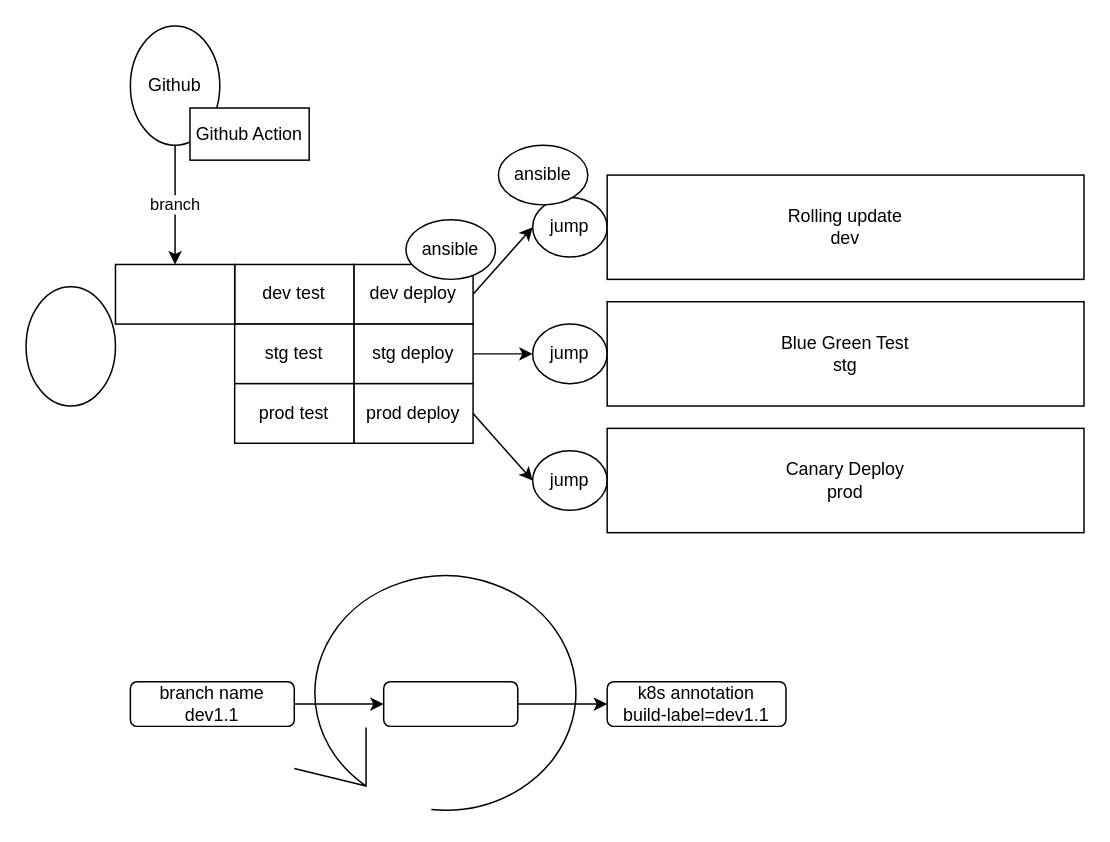
Image size: 1110x842. Some labels were removed from this diagram. The shapes that lost their labels are listed below. From the top down, each one's centre as x and y in pixels, then its label:
At [174,293]: "dev build".
At [70,345]: "Jenkins".
At [450,703]: "image tage app1:dev1.1".
